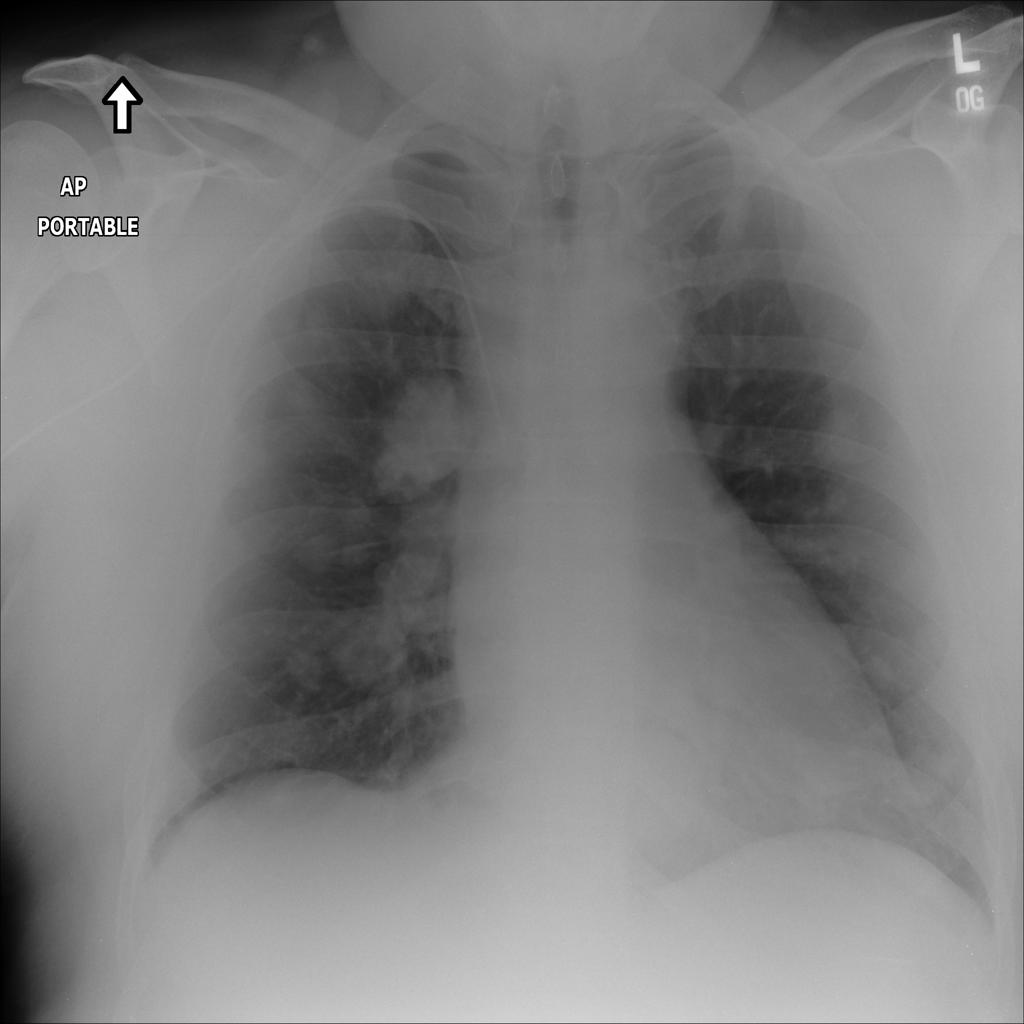nodule: (357, 351, 494, 511), (794, 386, 882, 486), (330, 606, 417, 697), (887, 729, 967, 811), (338, 253, 421, 329), (278, 511, 352, 586), (795, 470, 871, 538), (268, 628, 336, 704), (851, 628, 916, 706)
